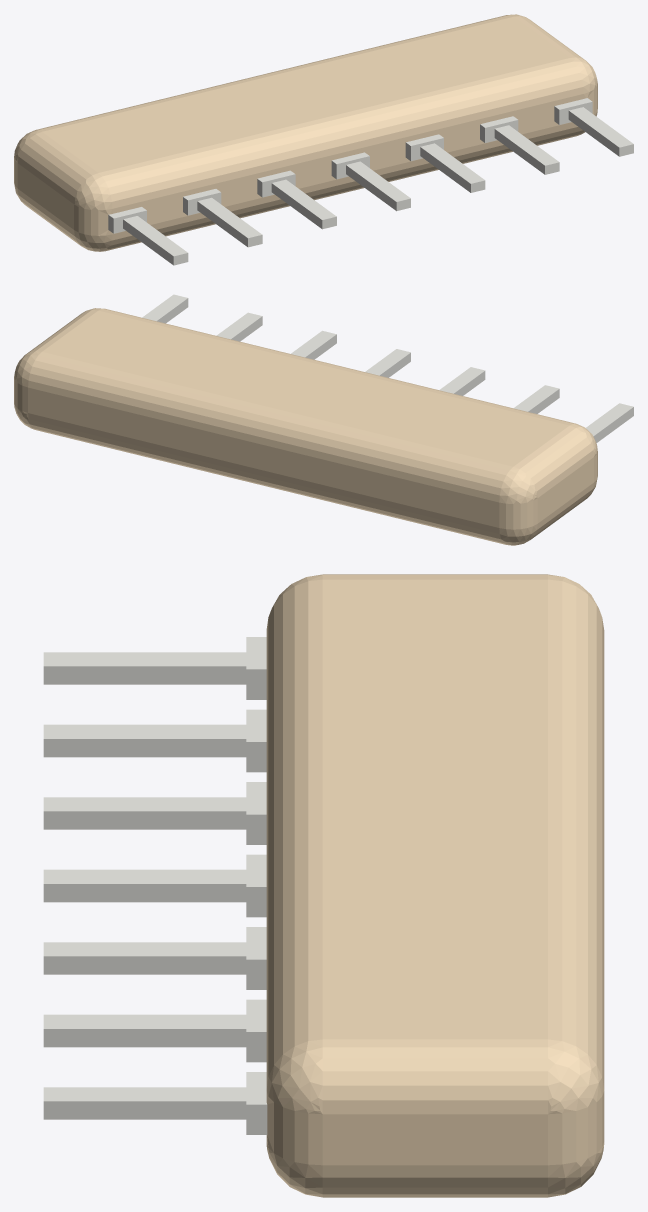
Rendered from R_Array_SIP7.glb.
3 views of the same model, one above another, from view 1: azimuth 30°, elevation 25°; view 2: azimuth 150°, elevation 25°; view 3: azimuth 270°, elevation 25° (orthographic). The views are drawn at different scales.
Visible parts, largest first — view 1: Shape_IndexedFaceSet.052, Shape_IndexedFaceSet.020, Shape_IndexedFaceSet.012, Shape_IndexedFaceSet.005, Shape_IndexedFaceSet.048, Shape_IndexedFaceSet.018, Shape_IndexedFaceSet.014, Shape_IndexedFaceSet.054, Shape_IndexedFaceSet.021, Shape_IndexedFaceSet.085, Shape_IndexedFaceSet.089, Shape_IndexedFaceSet.069 (+15 smaller); view 2: Shape_IndexedFaceSet.052, Shape_IndexedFaceSet.018, Shape_IndexedFaceSet.010, Shape_IndexedFaceSet.004, Shape_IndexedFaceSet.048, Shape_IndexedFaceSet.020, Shape_IndexedFaceSet.014, Shape_IndexedFaceSet.053, Shape_IndexedFaceSet.019, Shape_IndexedFaceSet.006, Shape_IndexedFaceSet.017, Shape_IndexedFaceSet.065 (+10 smaller); view 3: Shape_IndexedFaceSet.052, Shape_IndexedFaceSet.018, Shape_IndexedFaceSet.020, Shape_IndexedFaceSet.017, Shape_IndexedFaceSet.009, Shape_IndexedFaceSet.003, Shape_IndexedFaceSet.064, Shape_IndexedFaceSet.068, Shape_IndexedFaceSet.076, Shape_IndexedFaceSet.080, Shape_IndexedFaceSet.072, Shape_IndexedFaceSet.084 (+15 smaller).
Part boxes in pixels (bbox=[...]): Shape_IndexedFaceSet.052: bbox=[42, 17, 568, 172]; Shape_IndexedFaceSet.020: bbox=[99, 58, 583, 208]; Shape_IndexedFaceSet.012: bbox=[112, 94, 583, 233]; Shape_IndexedFaceSet.005: bbox=[106, 122, 581, 250]; Shape_IndexedFaceSet.048: bbox=[18, 132, 97, 203]; Shape_IndexedFaceSet.018: bbox=[36, 15, 512, 131]; Shape_IndexedFaceSet.014: bbox=[17, 163, 73, 229]; Shape_IndexedFaceSet.054: bbox=[74, 173, 112, 210]; Shape_IndexedFaceSet.021: bbox=[74, 204, 112, 235]; Shape_IndexedFaceSet.085: bbox=[197, 197, 262, 238]; Shape_IndexedFaceSet.089: bbox=[495, 125, 559, 165]; Shape_IndexedFaceSet.069: bbox=[569, 107, 633, 147]; Shape_IndexedFaceSet.052: bbox=[42, 310, 569, 466]; Shape_IndexedFaceSet.018: bbox=[28, 352, 512, 502]; Shape_IndexedFaceSet.010: bbox=[28, 387, 499, 527]; Shape_IndexedFaceSet.004: bbox=[28, 413, 505, 544]; Shape_IndexedFaceSet.048: bbox=[513, 425, 593, 497]; Shape_IndexedFaceSet.020: bbox=[99, 308, 575, 425]; Shape_IndexedFaceSet.014: bbox=[537, 457, 593, 523]; Shape_IndexedFaceSet.053: bbox=[499, 467, 537, 503]; Shape_IndexedFaceSet.019: bbox=[499, 498, 537, 529]; Shape_IndexedFaceSet.006: bbox=[531, 483, 593, 539]; Shape_IndexedFaceSet.017: bbox=[27, 310, 97, 353]; Shape_IndexedFaceSet.065: bbox=[586, 403, 633, 436]; Shape_IndexedFaceSet.052: bbox=[322, 579, 547, 1039]; Shape_IndexedFaceSet.018: bbox=[548, 579, 604, 1088]; Shape_IndexedFaceSet.020: bbox=[266, 579, 322, 1087]; Shape_IndexedFaceSet.017: bbox=[322, 1039, 547, 1114]; Shape_IndexedFaceSet.009: bbox=[322, 1114, 547, 1165]; Shape_IndexedFaceSet.003: bbox=[322, 1165, 547, 1197]; Shape_IndexedFaceSet.064: bbox=[43, 666, 246, 684]; Shape_IndexedFaceSet.068: bbox=[43, 1101, 246, 1119]; Shape_IndexedFaceSet.076: bbox=[43, 956, 246, 974]; Shape_IndexedFaceSet.080: bbox=[43, 811, 246, 829]; Shape_IndexedFaceSet.072: bbox=[43, 884, 246, 902]; Shape_IndexedFaceSet.084: bbox=[43, 739, 246, 757].
Size of the model in its own units: 7 by 0.988 by 3.27.
